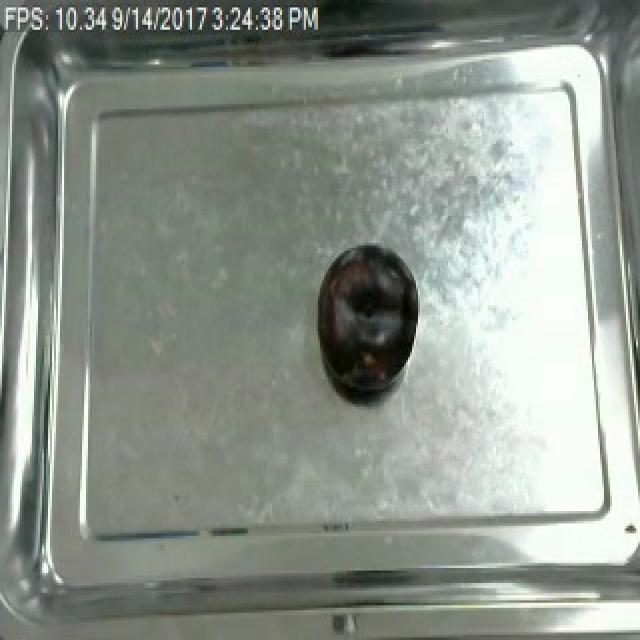Fruit: (318, 233, 418, 400)
